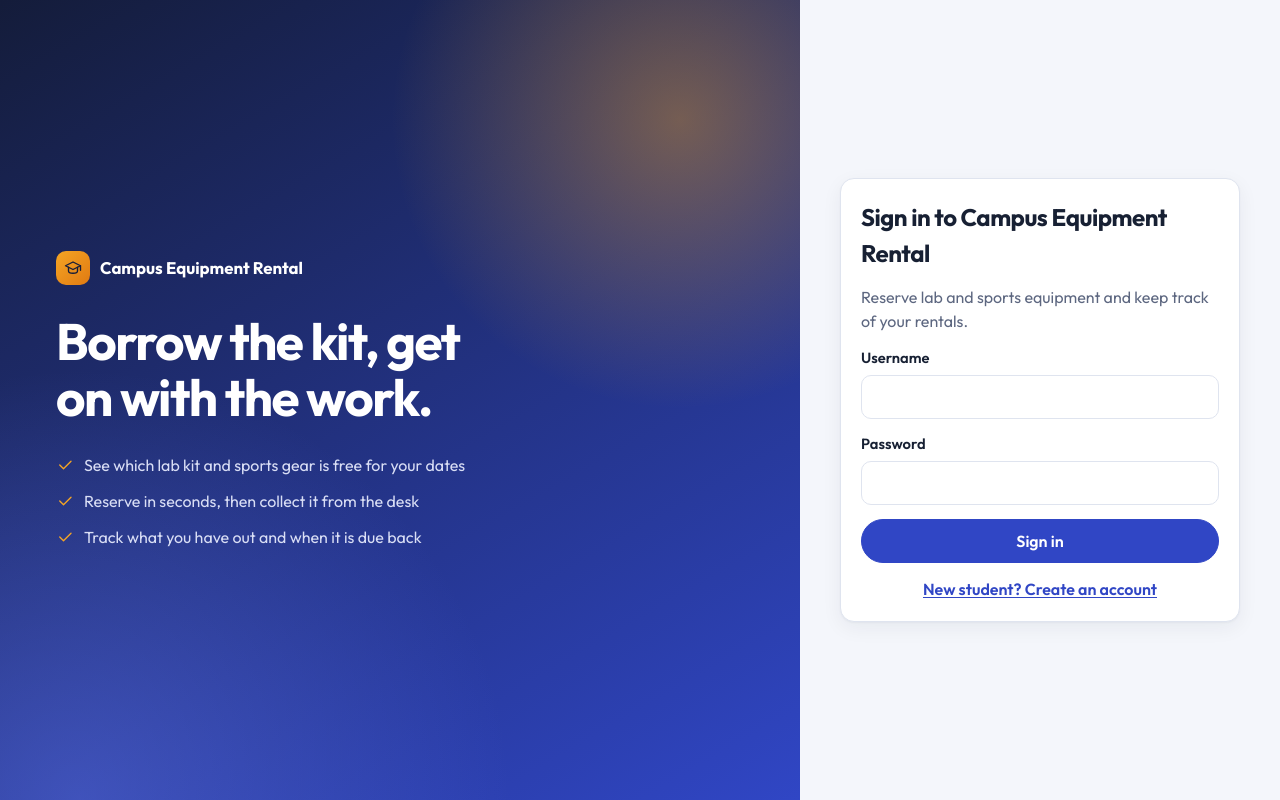
shows an error for bad credentials
The image size is (1280, 800).
Step 1. Type "aoife" into the field labelled "Username" → coordinates (1040, 397), box [861, 375, 1219, 419]
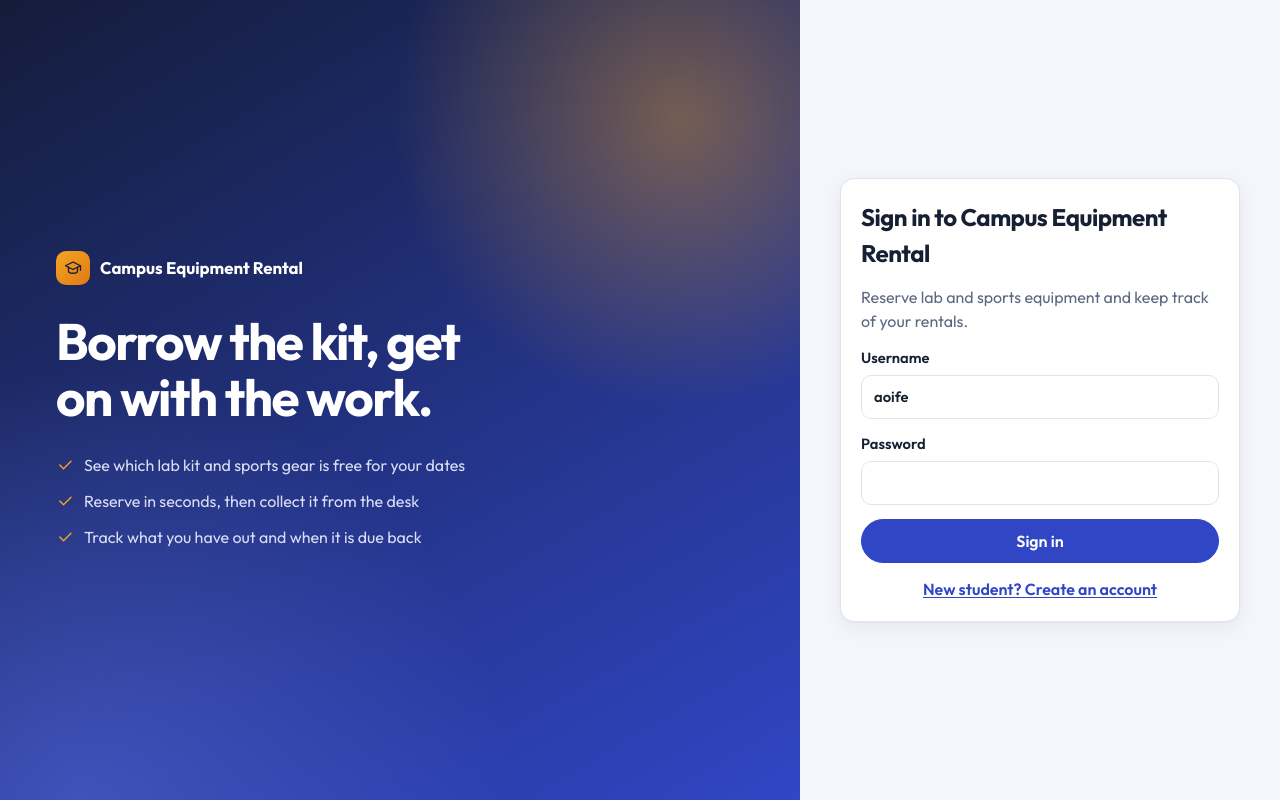
Step 2. Type "wrong" into the password field labelled "Password" → coordinates (1040, 483), box [861, 461, 1219, 505]
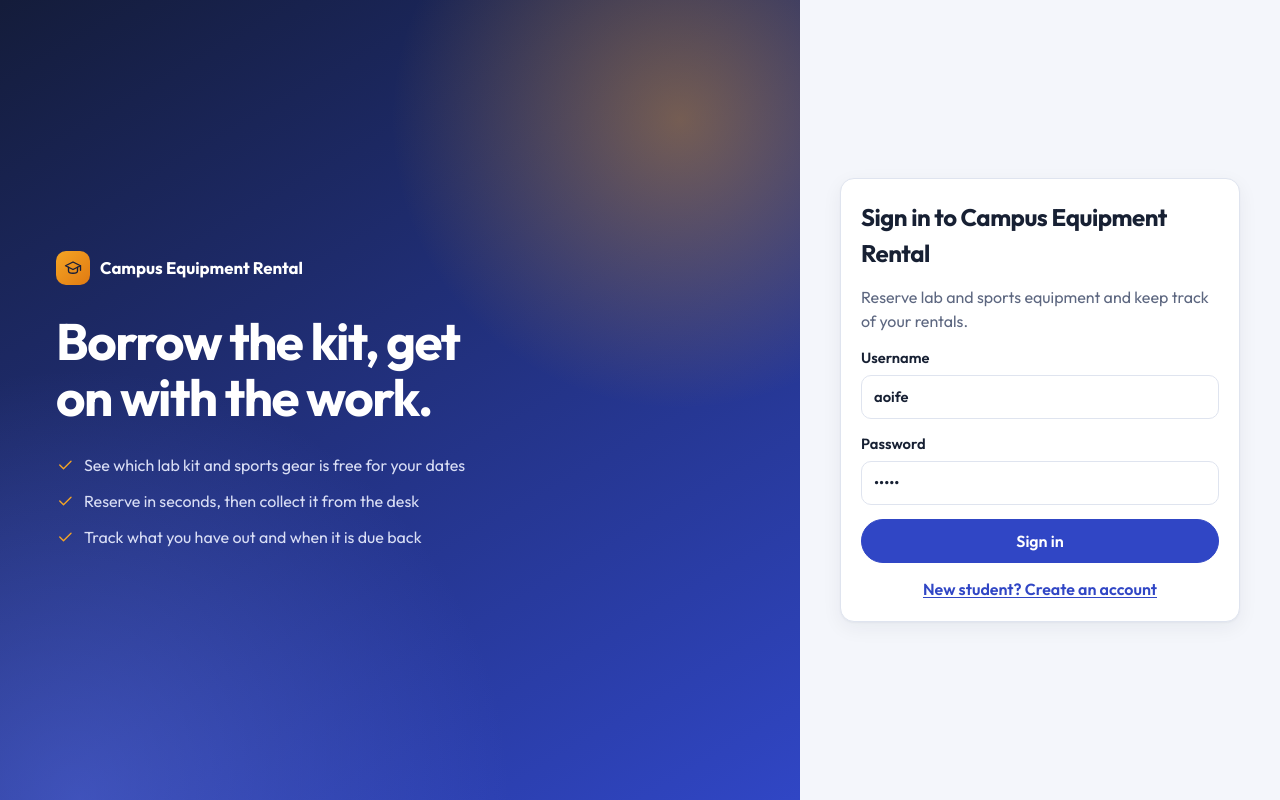
Step 3. Click the button "Sign in" → coordinates (1040, 541), box [861, 519, 1219, 563]
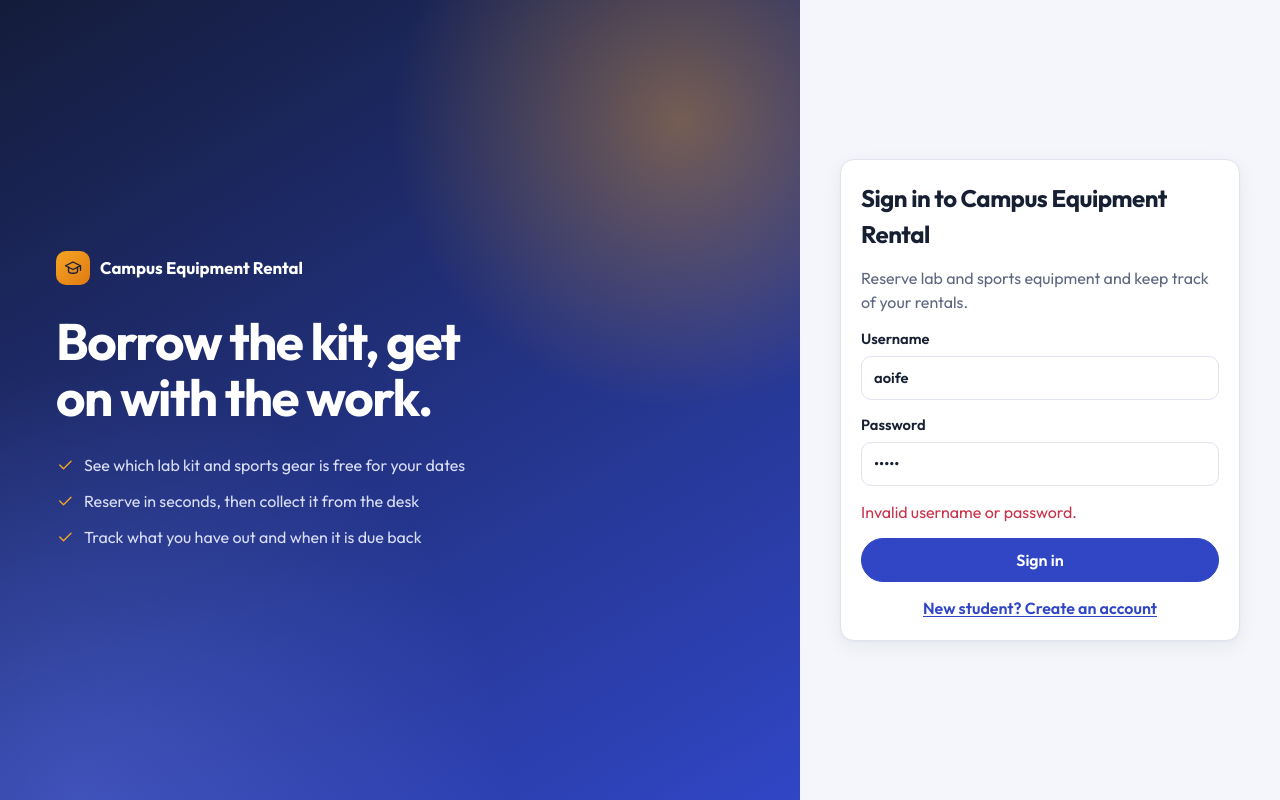
Result: the text "Invalid username or password." is shown at [861, 502, 1077, 522]
